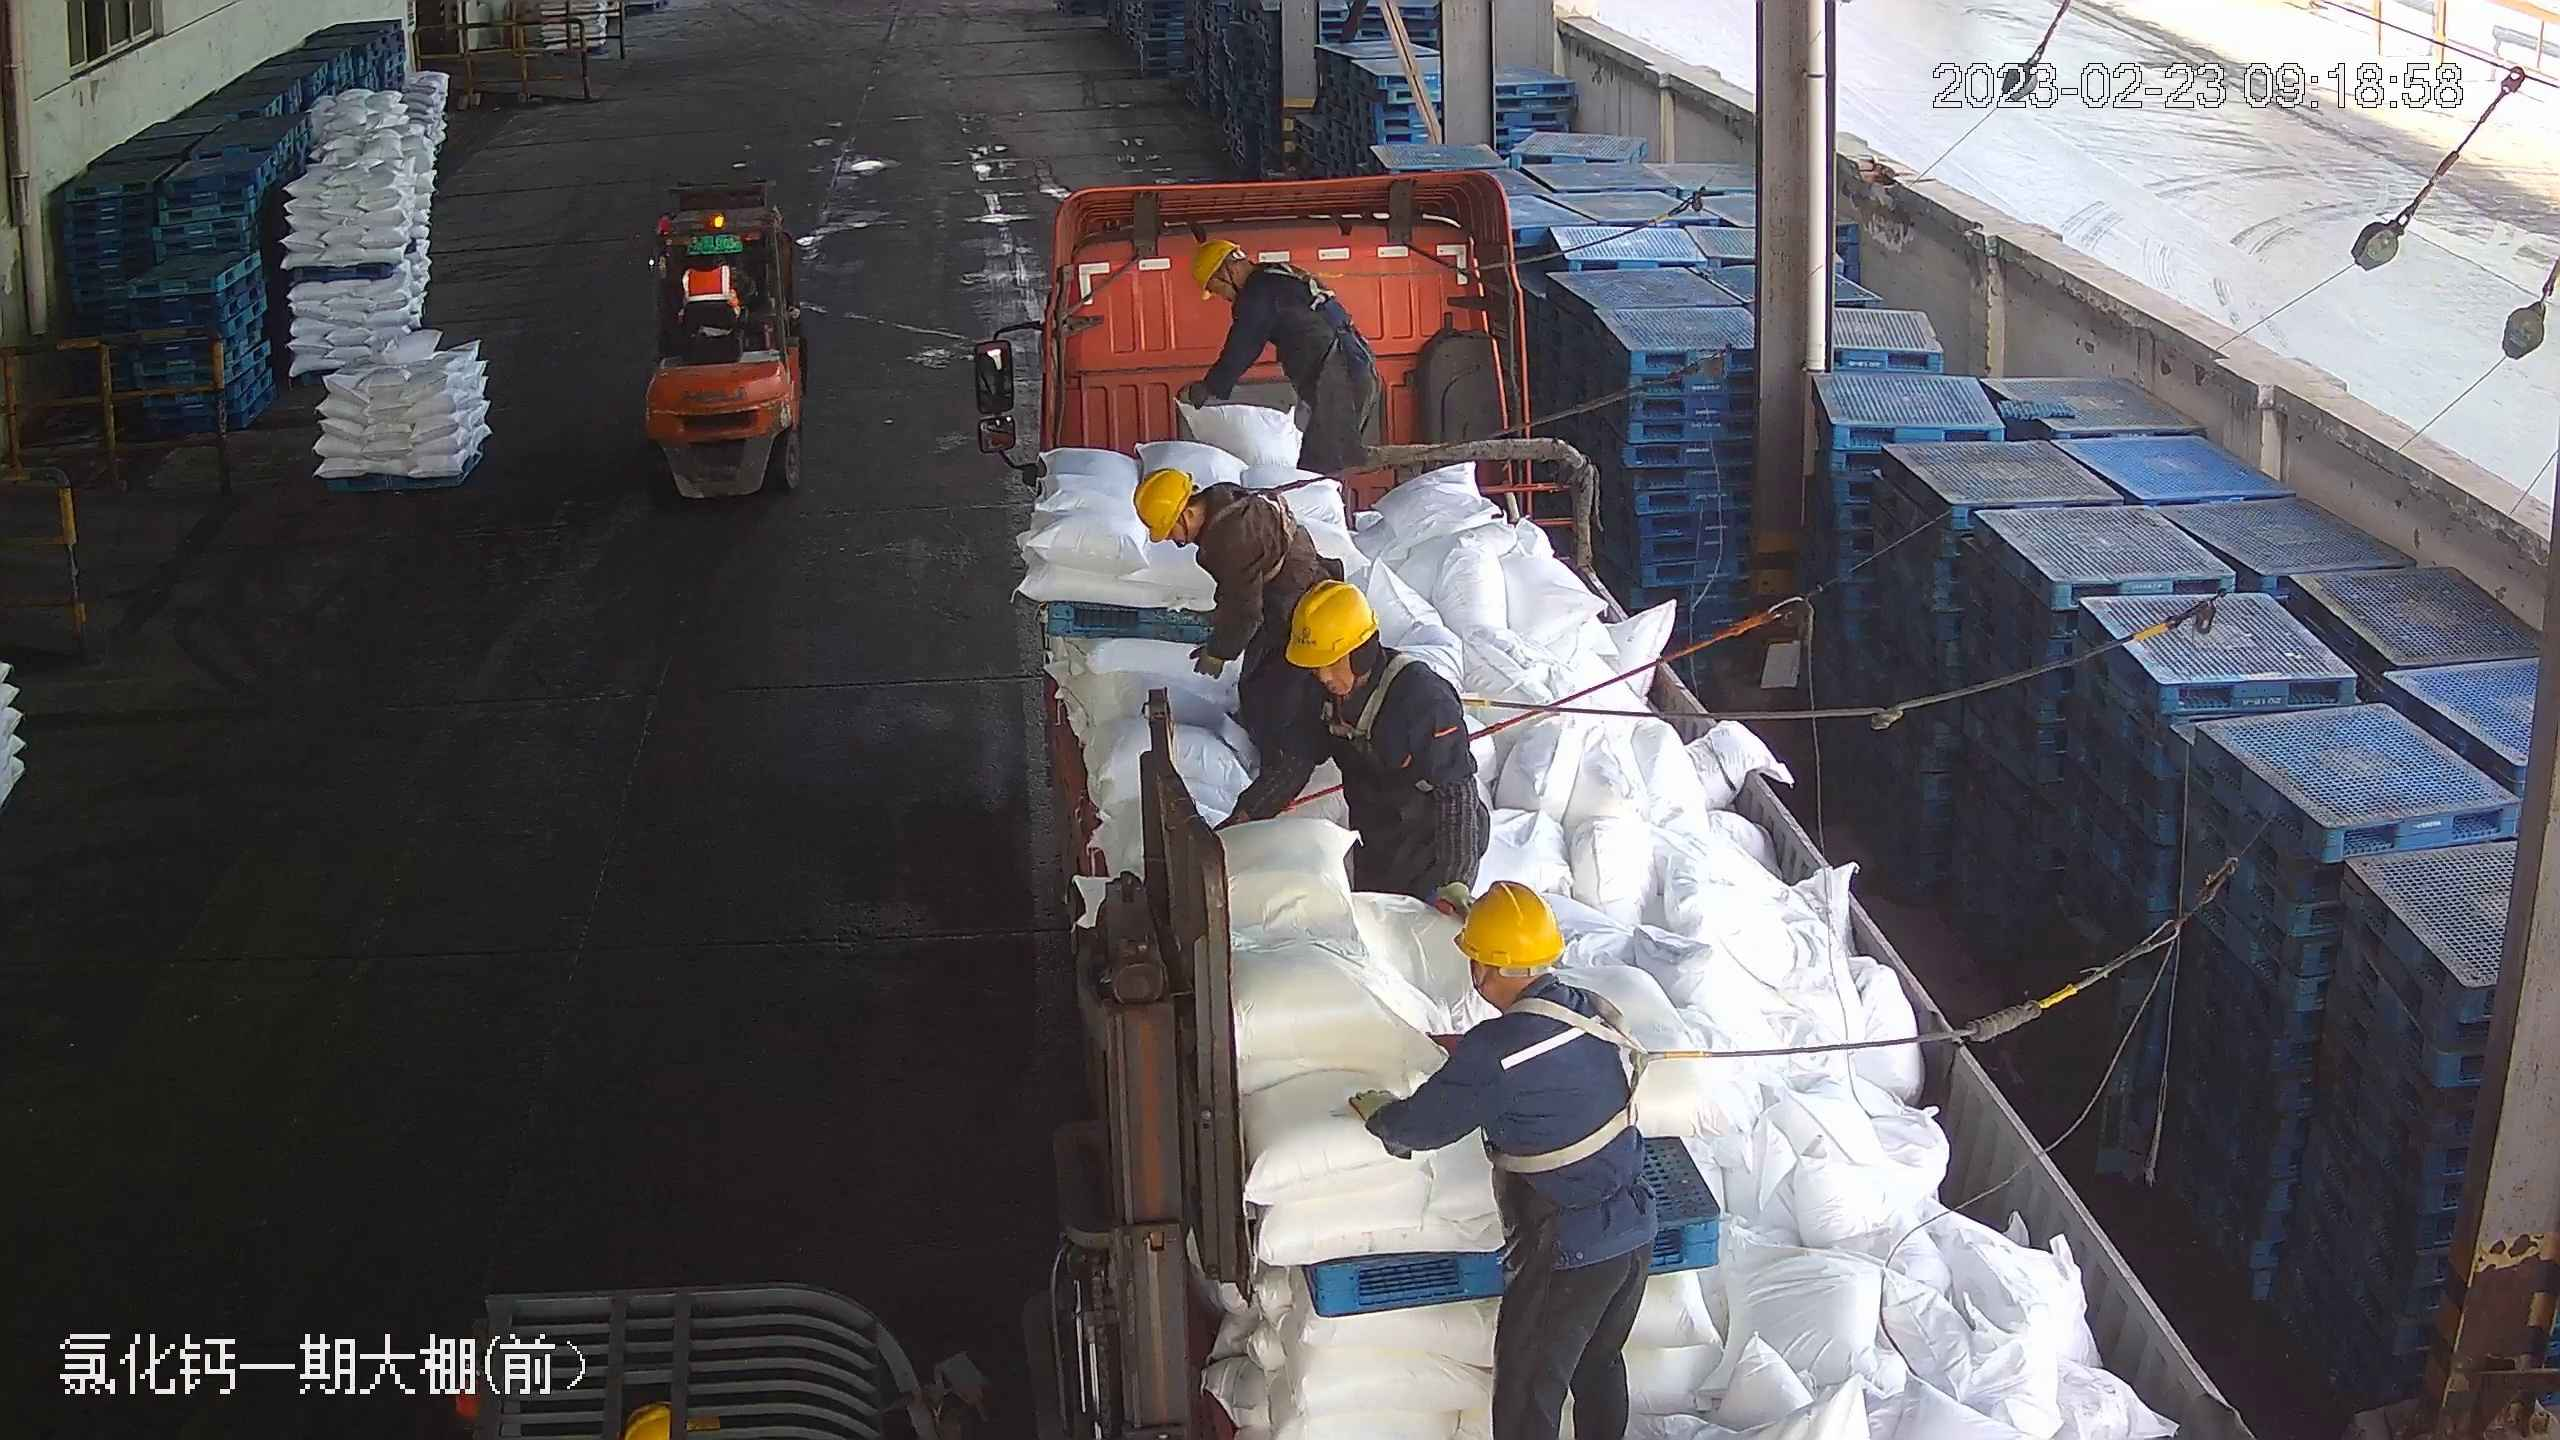belt: (1470, 990, 1700, 1169), (1323, 652, 1498, 769), (1197, 477, 1316, 584), (1269, 255, 1351, 309)
head: (1443, 878, 1630, 1103), (1281, 580, 1461, 759), (1132, 464, 1277, 584), (1191, 239, 1309, 332)
helmet: (1455, 878, 1563, 964), (1286, 578, 1377, 665), (1131, 466, 1192, 544), (1190, 237, 1239, 295)
people: (1342, 878, 1651, 1437), (1263, 577, 1487, 913), (1129, 465, 1340, 751), (1185, 241, 1379, 498)
truck: (977, 162, 2249, 1431)
